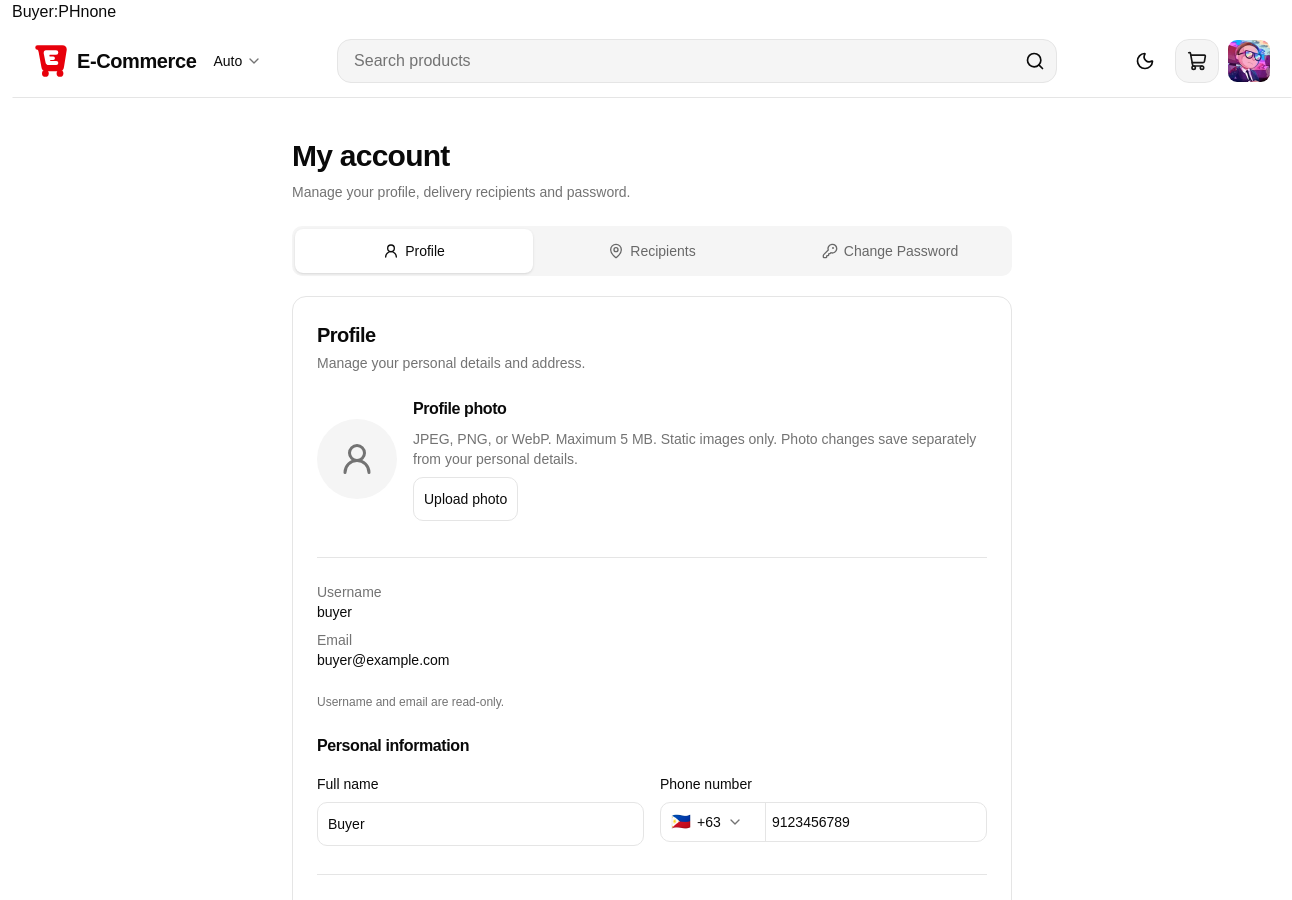
maps nested validation errors while retaining the draft
Replace the text in the field labelled "Full name" with "Draft name" at (480, 824), box [317, 802, 644, 846]
(page scrolled)
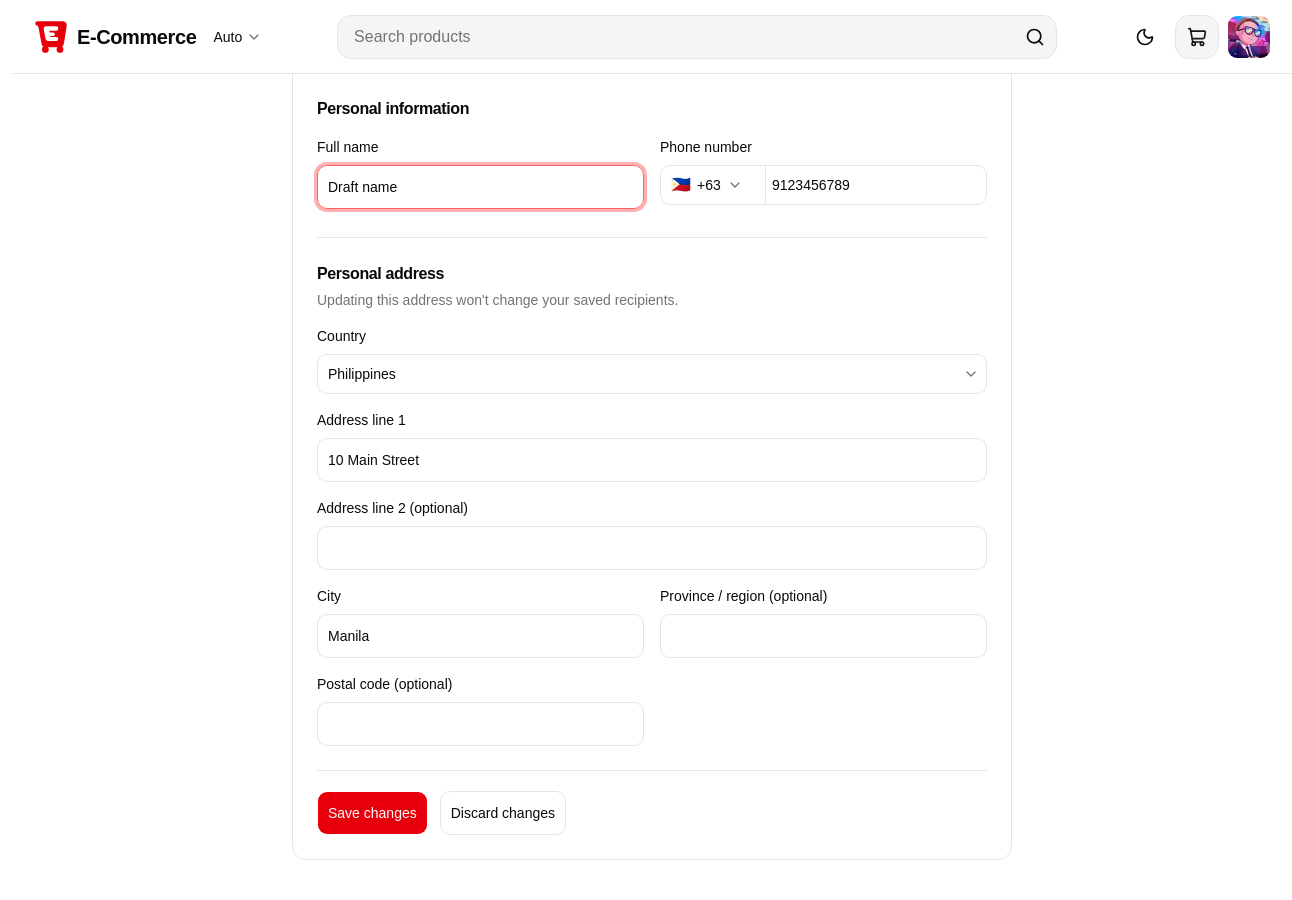
Click the button "Save changes" at (372, 813), box [317, 791, 428, 835]
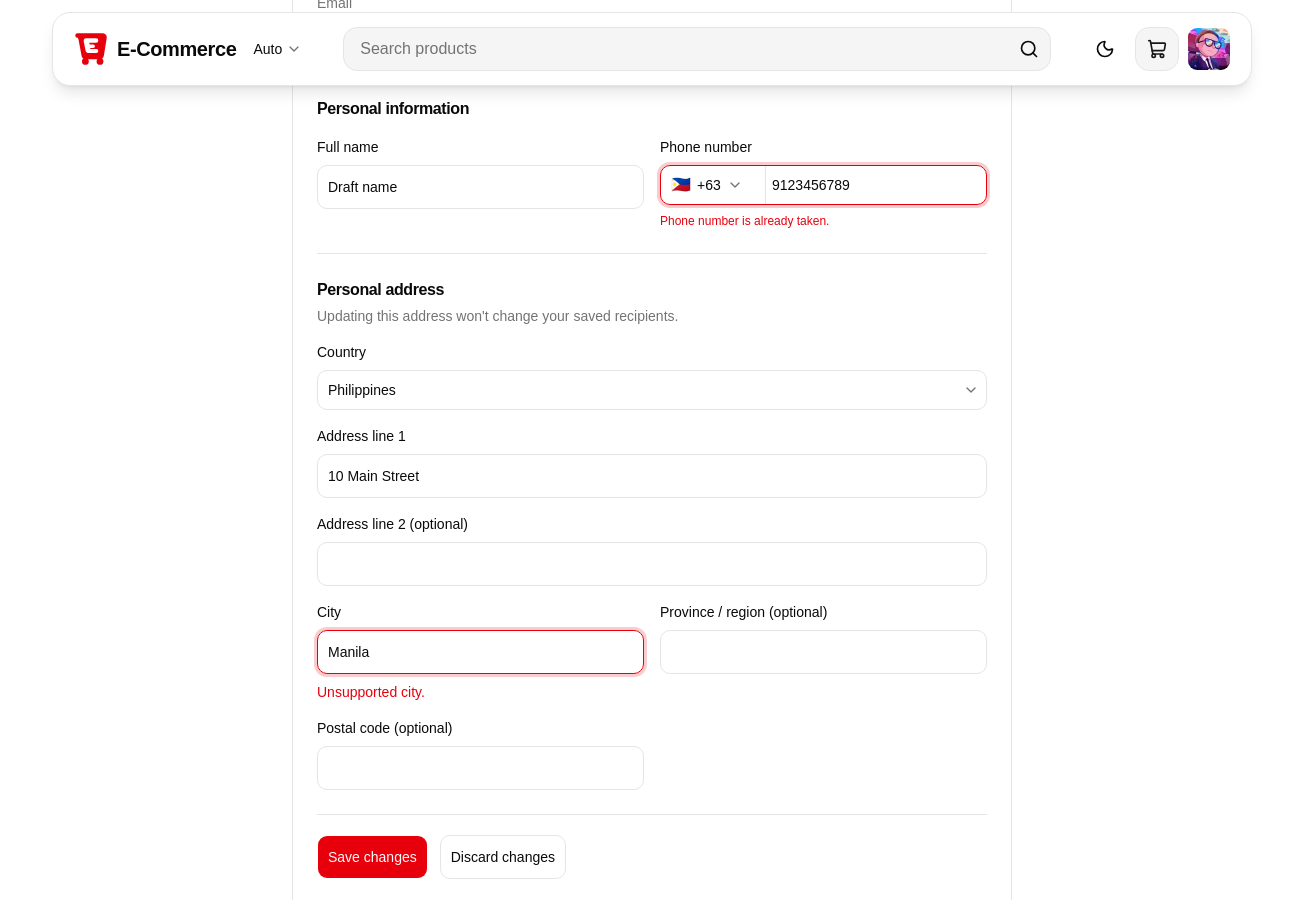
Check: the text "Unsupported city." is shown, box [317, 684, 425, 700]
Check: the text "Phone number is already taken." is shown, box [660, 214, 829, 228]
